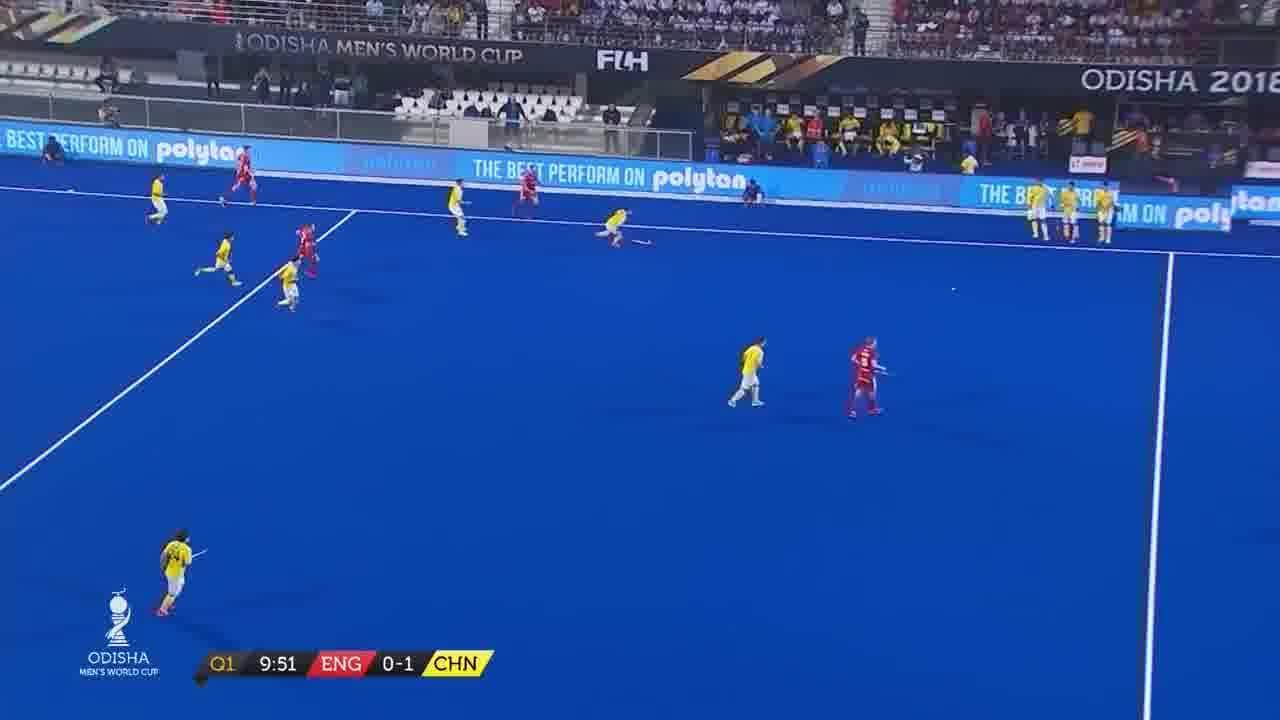ball: (949, 282, 961, 294)
